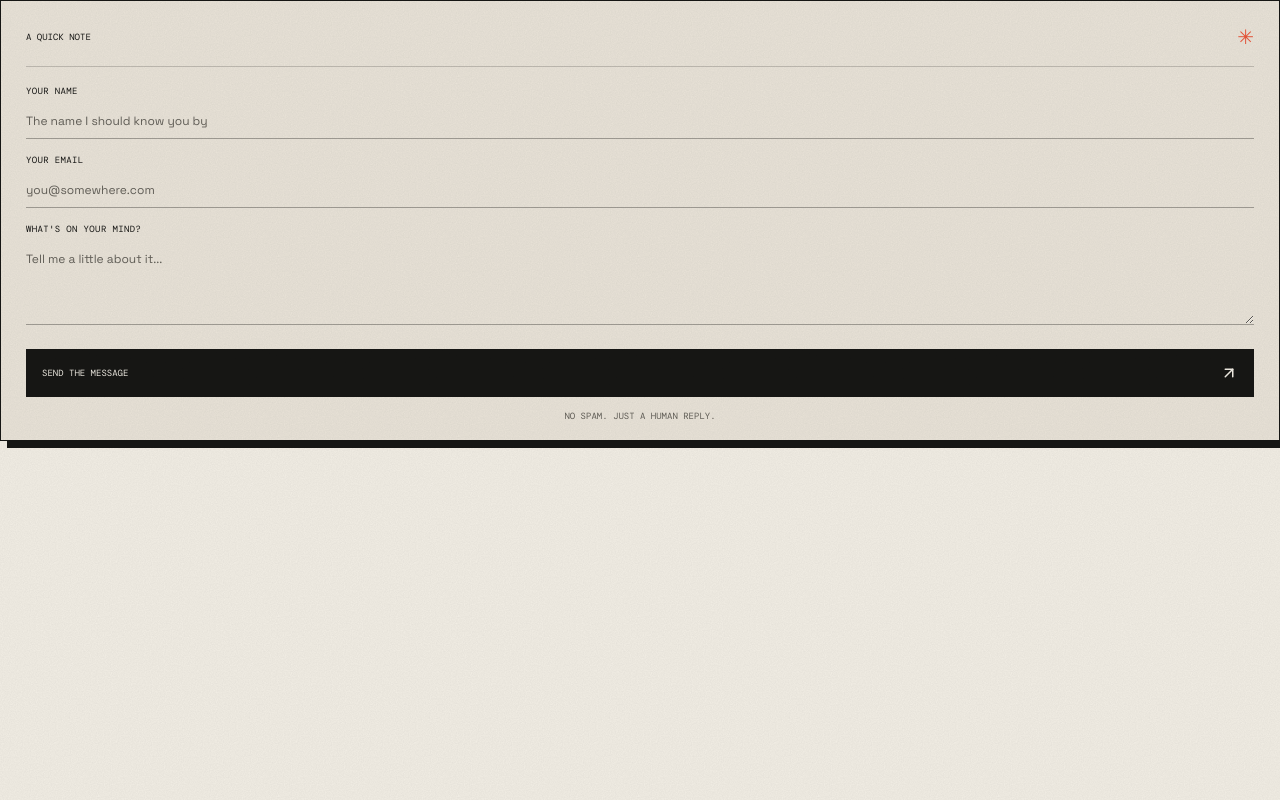
ContactForm › shows provider errors and keeps what the visitor typed
Type "Ada Lovelace" into the field labelled "YOUR NAME" at (640, 122), box [26,104,1254,139]
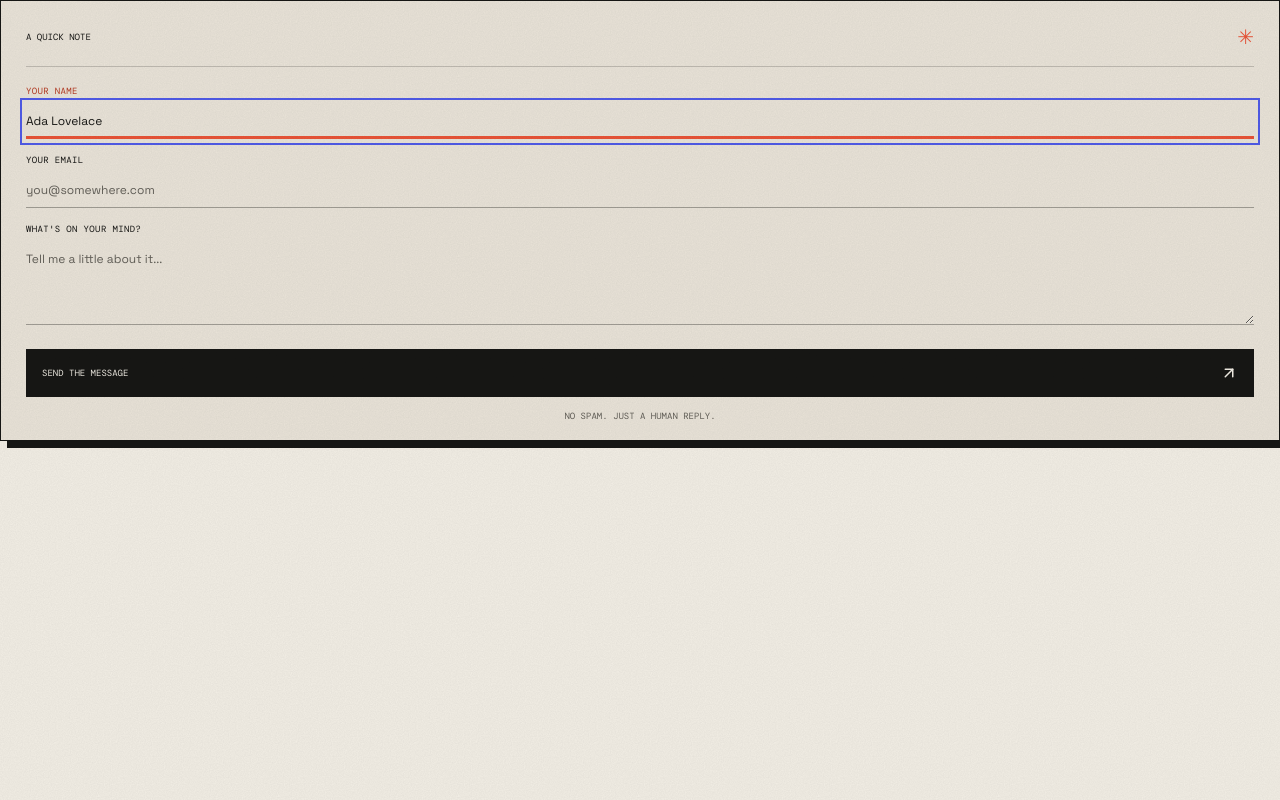
Type "ada@example.com" into the field labelled "YOUR EMAIL" at (640, 190), box [26,173,1254,208]
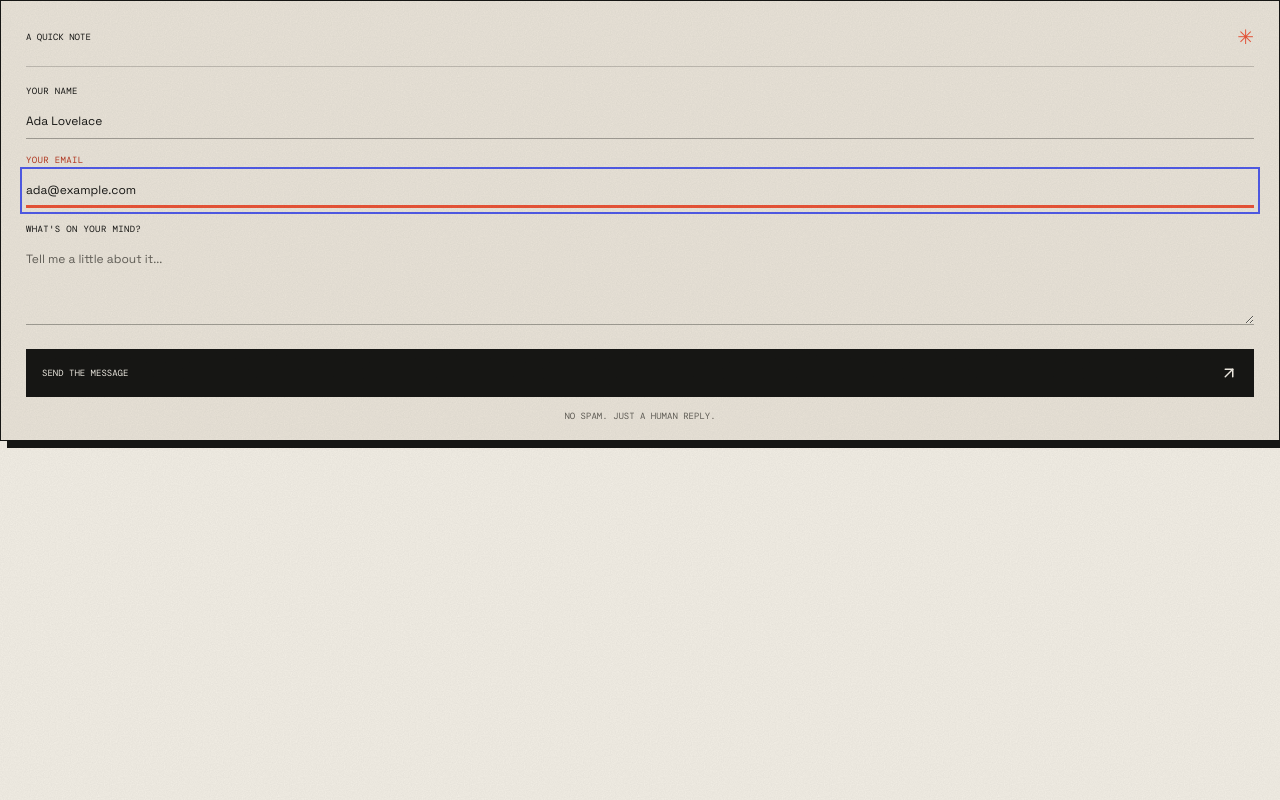
Type "Let's build something." into the text box labelled "WHAT'S ON YOUR MIND?" at (640, 284), box [26,242,1254,325]
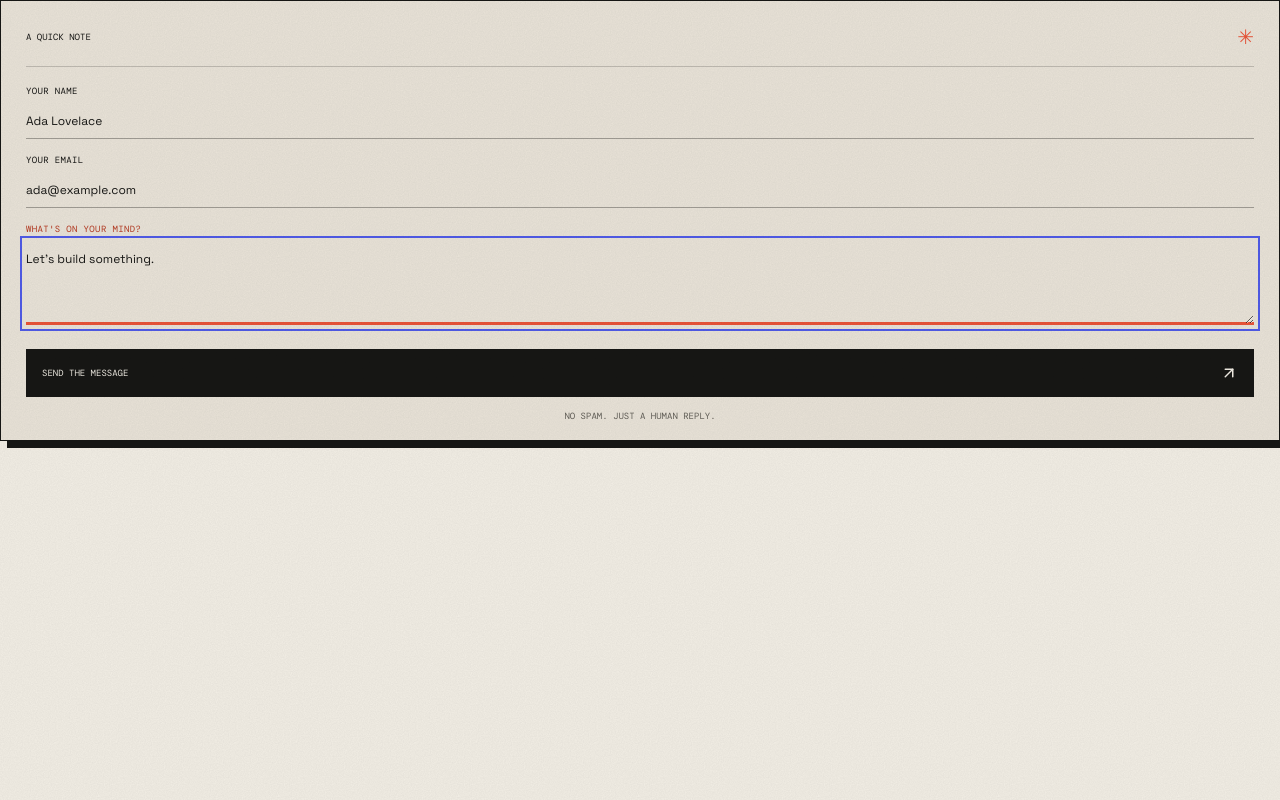
Click the button "SEND THE MESSAGE" at (85, 373), box [26,349,1254,397]
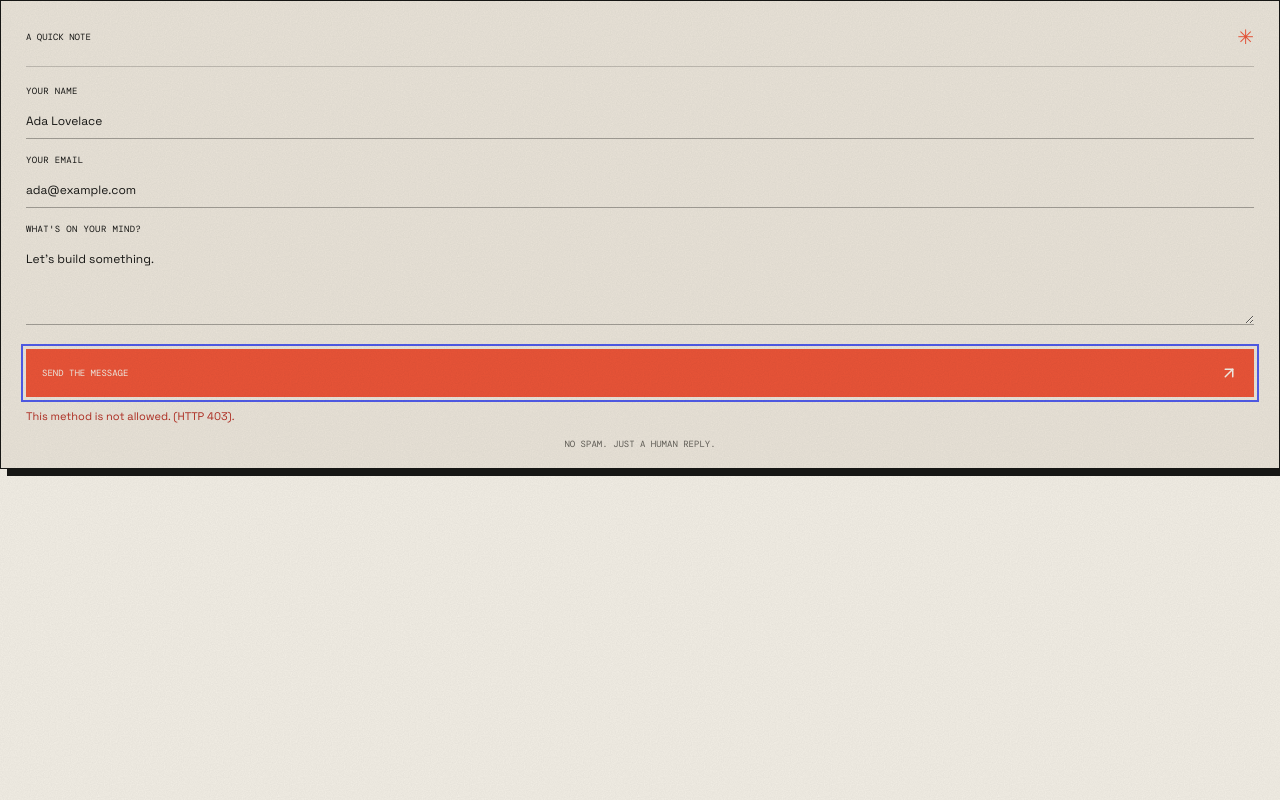
Expected: the message shows "This method is not allowed.", [26,409,234,423]
